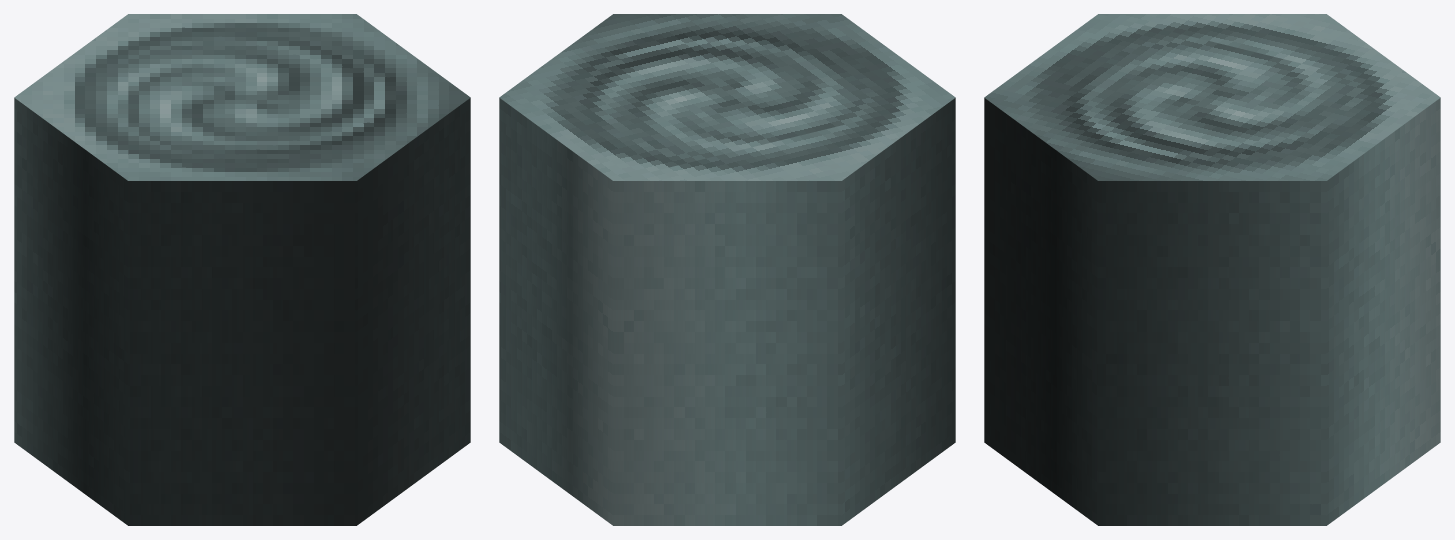
Rendered from roof_pipe_cap.glb.
The picture shows the model from 3 angles, left to right: view 1: azimuth 30°, elevation 25°; view 2: azimuth 150°, elevation 25°; view 3: azimuth 270°, elevation 25°; orthographic projection.
Visible parts, largest first — view 1: roof_pipe_cap; view 2: roof_pipe_cap; view 3: roof_pipe_cap.
Boxes of the visible parts, x1=… form: roof_pipe_cap: x1=14, y1=14, x2=470, y2=525; roof_pipe_cap: x1=499, y1=14, x2=955, y2=525; roof_pipe_cap: x1=984, y1=14, x2=1440, y2=525.
Size of the model in its own units: 0.5196 by 0.5 by 0.6.
1 material, 1 textured.
